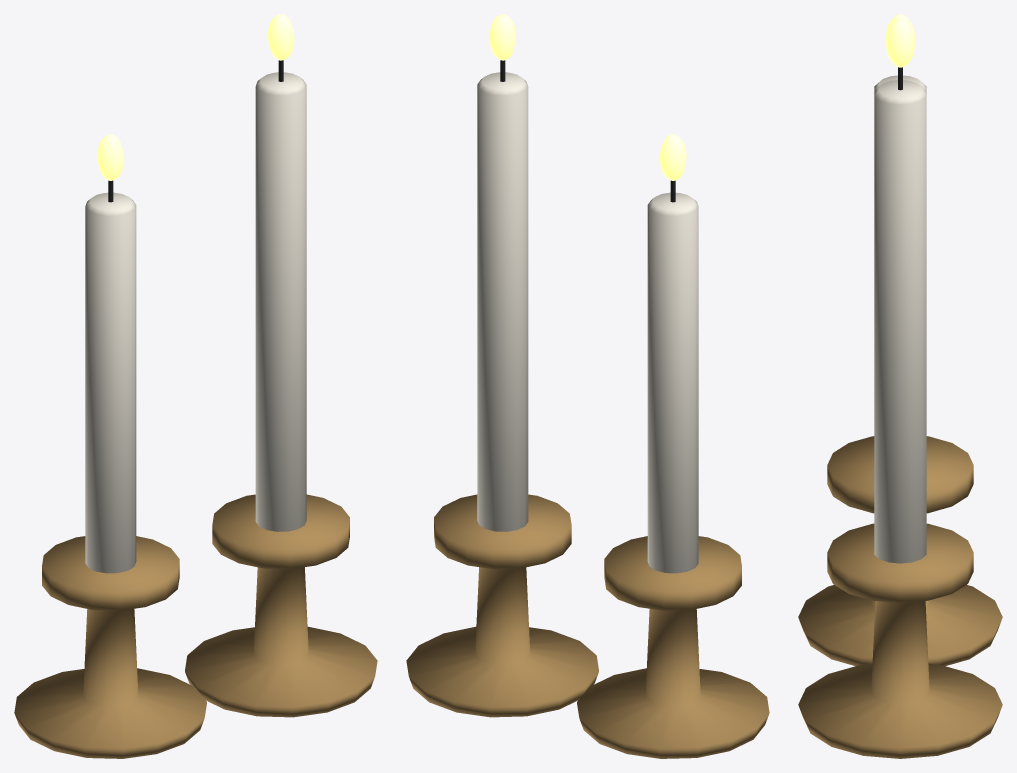
The model's file is i_candles_2.glb.
The picture shows the model from 3 angles, left to right: view 1: azimuth 30°, elevation 25°; view 2: azimuth 150°, elevation 25°; view 3: azimuth 270°, elevation 25°; orthographic projection. The views are drawn at different scales.
Parts seen in each view (by area): view 1: o, o.004, o.005, o.001, o.003, o.007; view 2: o, o.004, o.005, o.001, o.003, o.007; view 3: o.004, o.005, o, o.007.
Boxes of the visible parts, x1,y1,x2,y2 form: o: (14,536,206,758); o.004: (185,494,377,717); o.005: (255,72,306,531); o.001: (85,192,136,573); o.003: (97,134,124,180); o.007: (267,14,294,60); o: (577,536,769,758); o.004: (406,494,598,717); o.005: (477,72,528,531); o.001: (647,192,698,573); o.003: (659,134,686,180); o.007: (489,14,516,60); o.004: (798,523,1002,758); o.005: (874,80,926,563); o: (798,436,1002,666); o.007: (886,18,914,67).
Bounding box in the file's own units: 0.169 × 0.3164 × 0.084.
